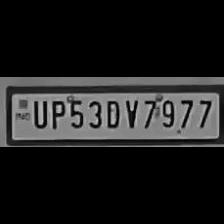3: (86, 97, 102, 129)
5: (65, 96, 84, 130)
7: (192, 96, 212, 130), (138, 96, 156, 130), (176, 96, 194, 130)
9: (158, 97, 176, 129)
D: (102, 96, 122, 128)
P: (47, 96, 66, 130)
U: (30, 97, 48, 129)
V: (122, 96, 140, 130)
